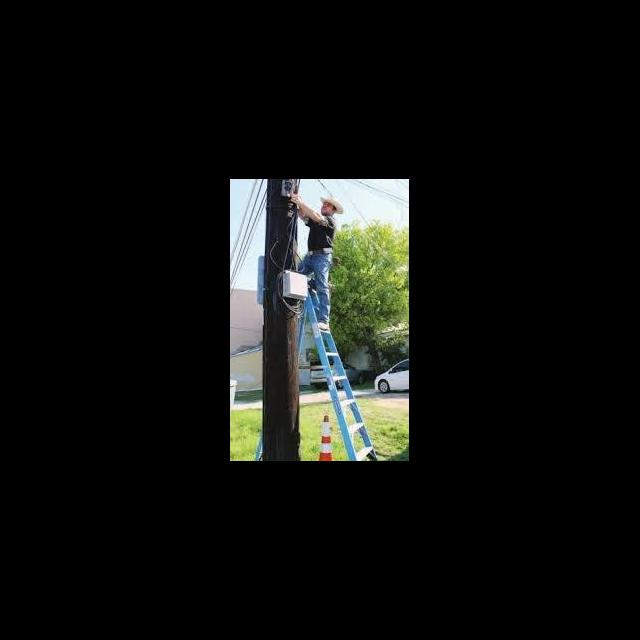Ladder: (250, 285, 376, 461)
NO-Hardhat: (325, 197, 342, 207)
NO-Mask: (322, 207, 332, 214)
NO-Safety Vest: (309, 215, 334, 249)
Person: (291, 192, 337, 330)
Safety Cone: (316, 416, 336, 461)
mini-van: (376, 358, 409, 394)
